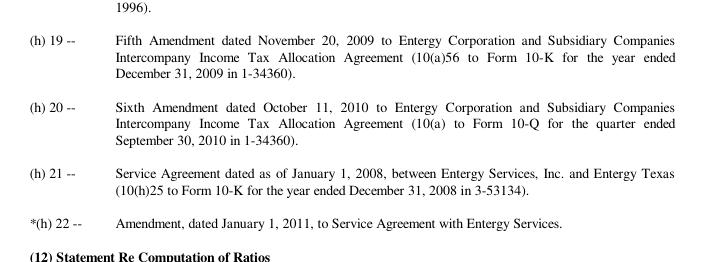table: (28, 29, 674, 231)
table column: (97, 29, 674, 231), (28, 29, 97, 231)
table row: (28, 88, 674, 155), (28, 29, 674, 88), (28, 155, 674, 205), (28, 205, 674, 231)
